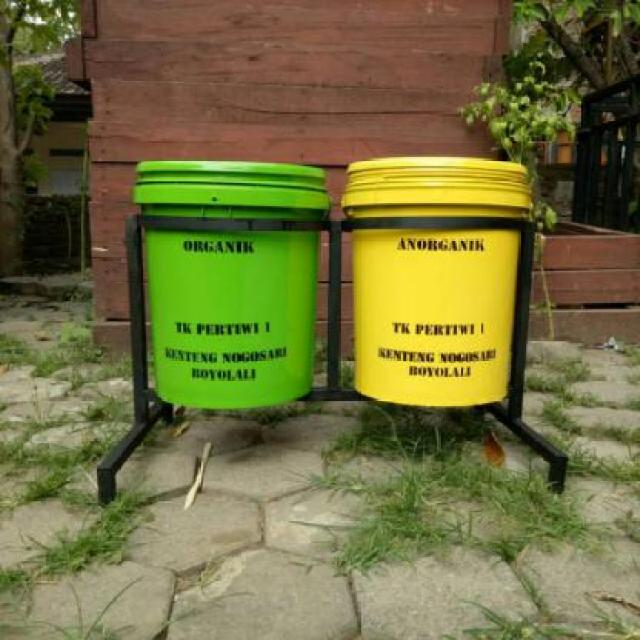garbage container: (335, 150, 542, 418), (128, 146, 329, 420)
